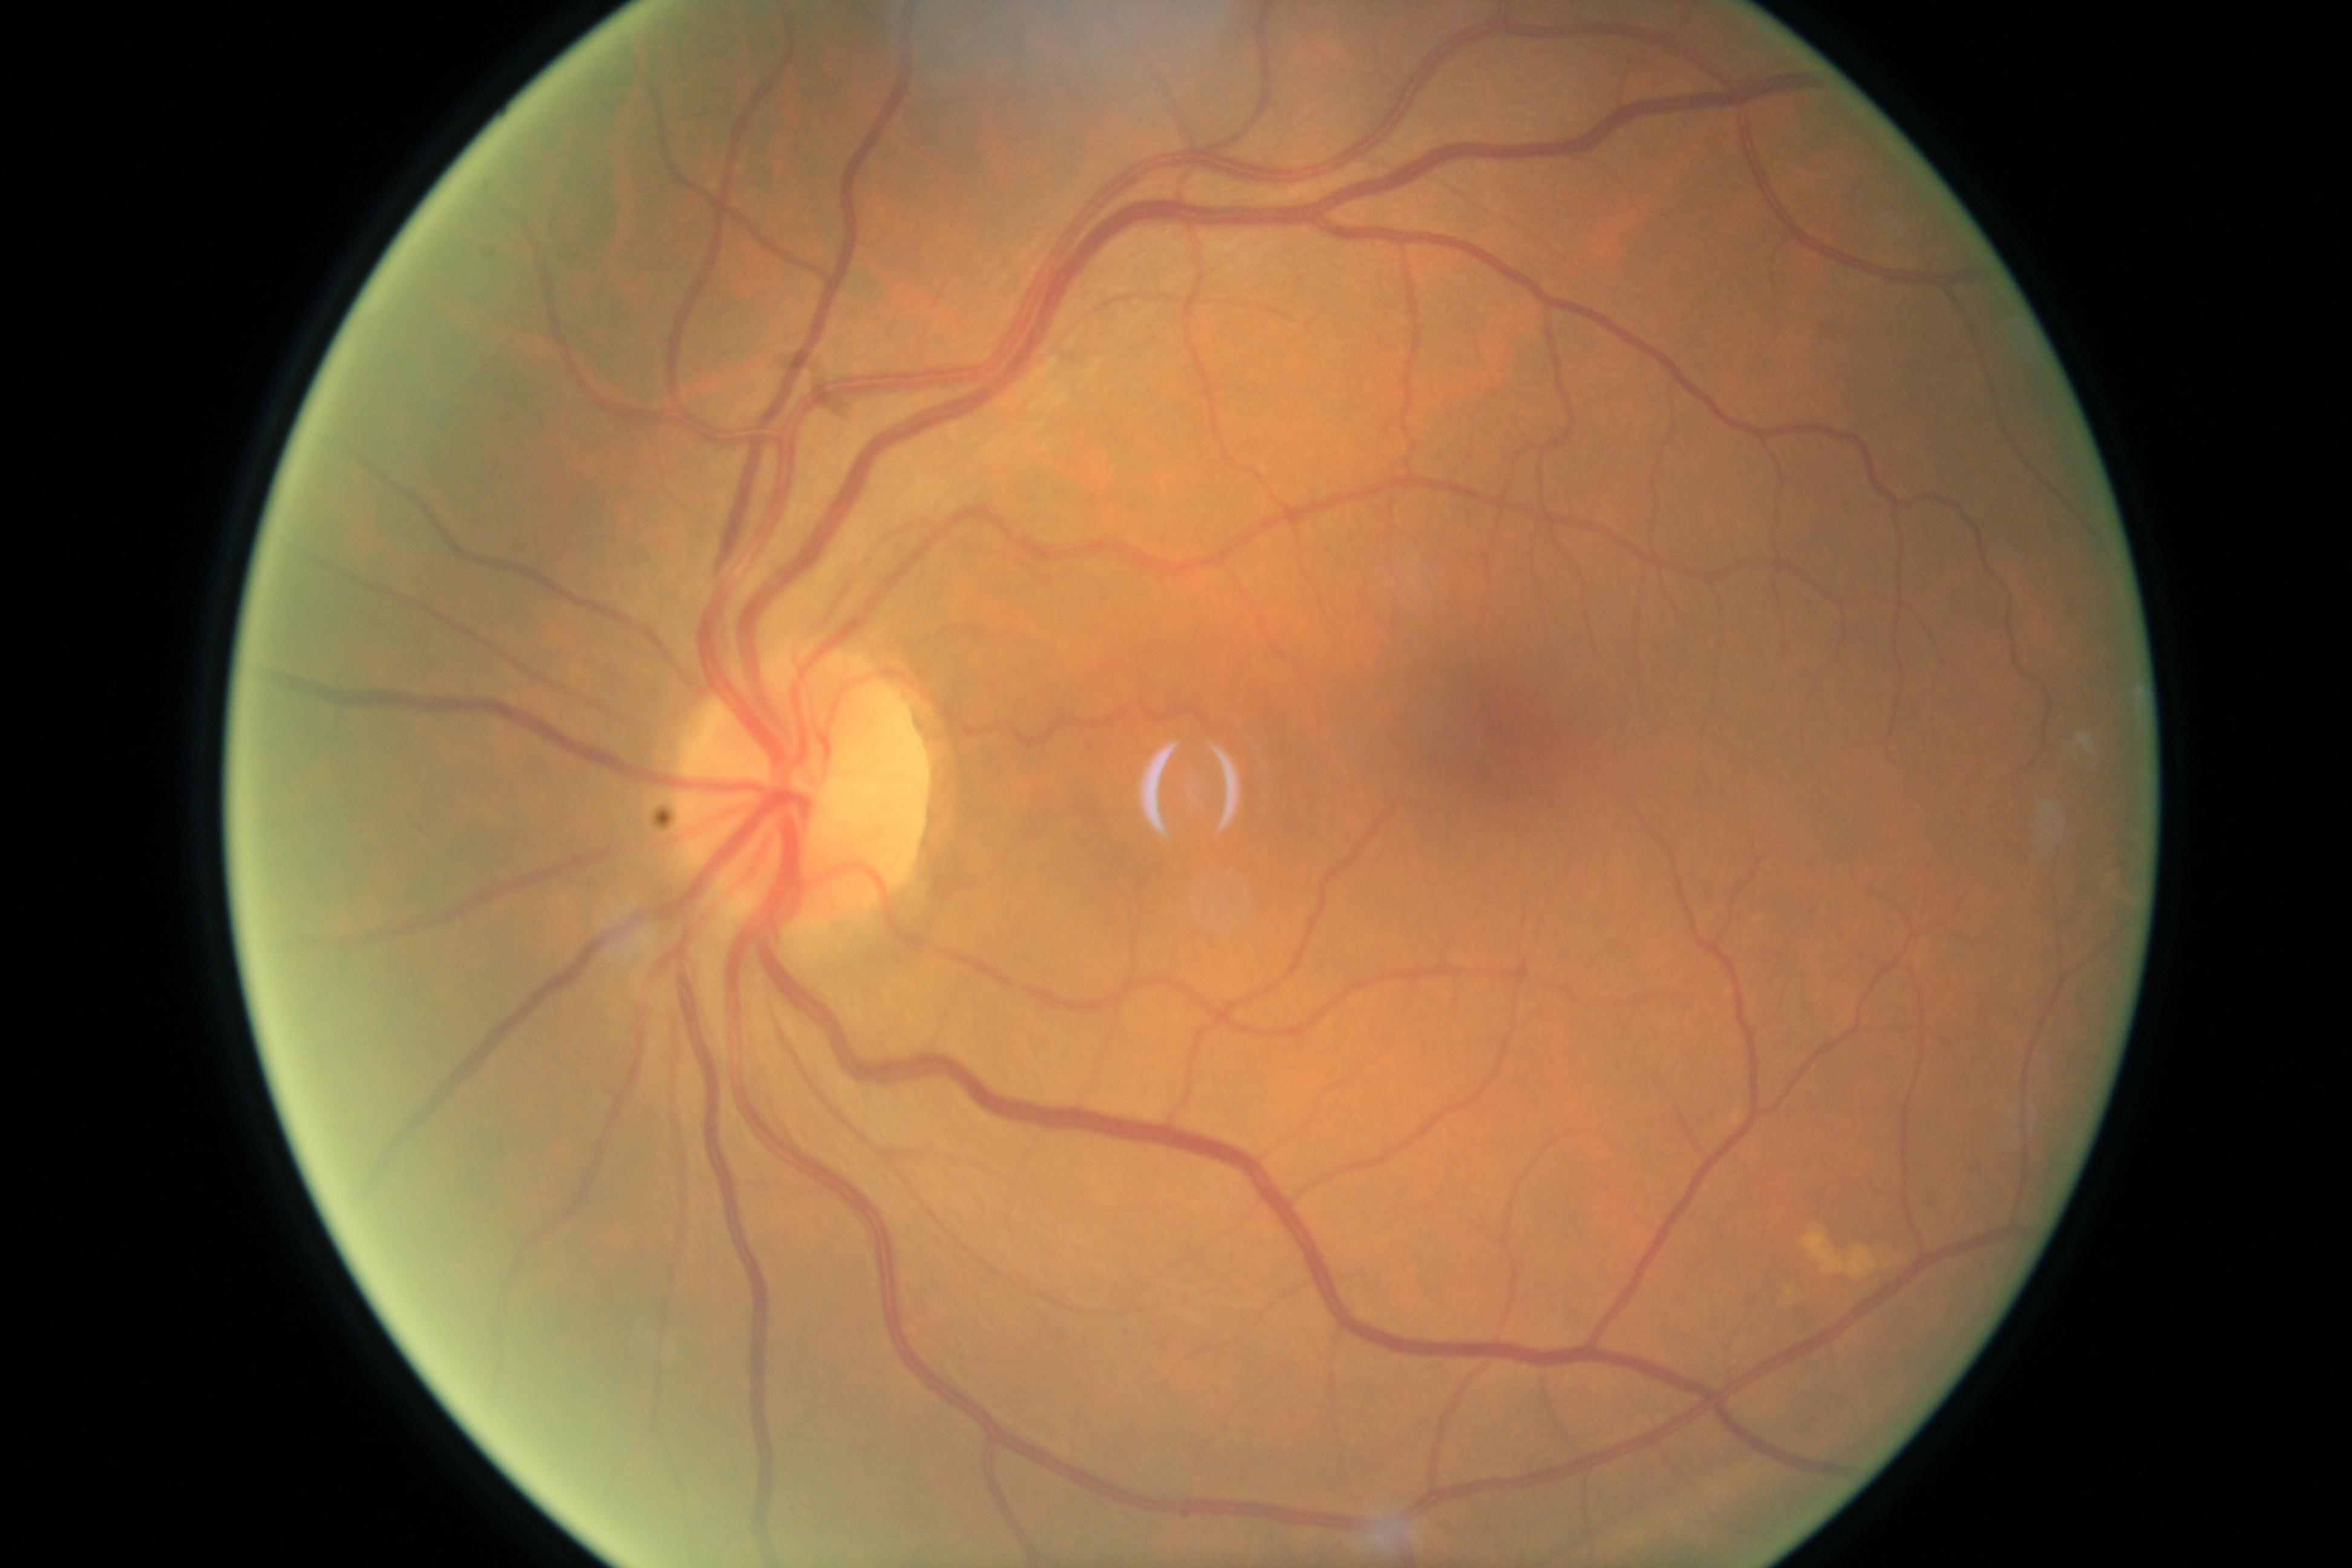Optic-nerve: (644, 614, 915, 934)
macula: (1333, 595, 1635, 843)
